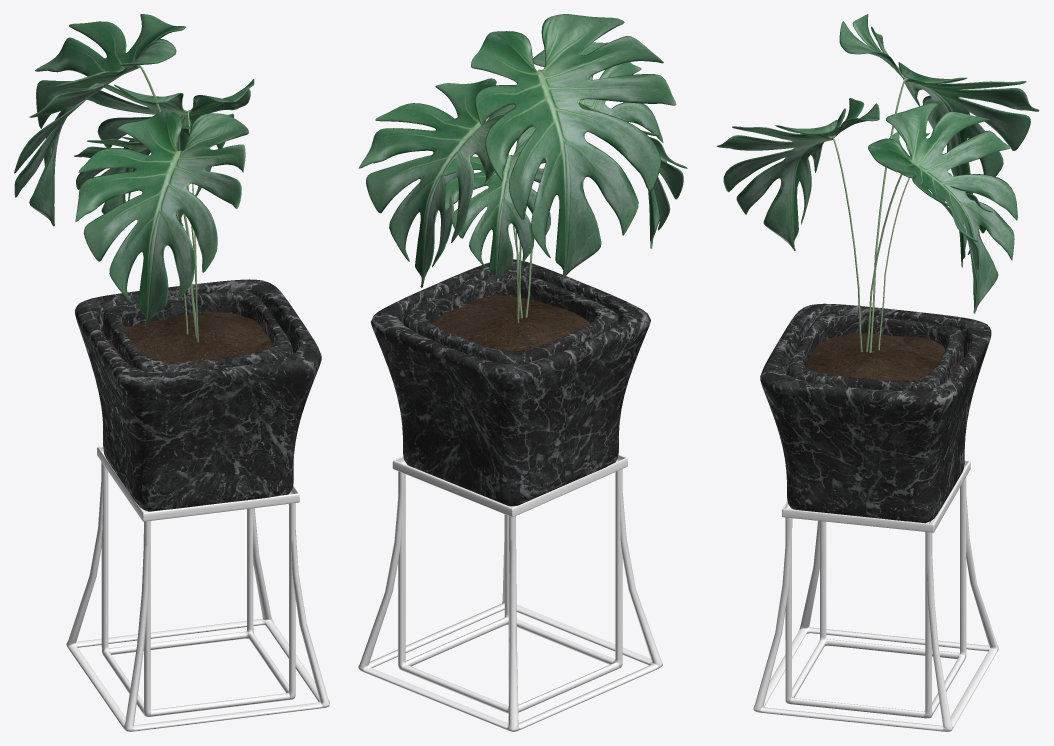
Rendered from monstera.glb.
The picture shows the model from 3 angles, left to right: view 1: azimuth 30°, elevation 25°; view 2: azimuth 150°, elevation 25°; view 3: azimuth 270°, elevation 25°; orthographic projection. The views are drawn at different scales.
Parts seen in each view (by area): view 1: Planta2.002, VASO_TORTO.002, VASO_RETO, Suporte_Torto.002, Supote_RETO, Terra_VASO_TORTO.002, Terra_VASO_reto, SUPORTE.002; view 2: Planta2.002, VASO_TORTO.002, Suporte_Torto.002, VASO_RETO, Supote_RETO, Terra_VASO_TORTO.002, Terra_VASO_reto, SUPORTE.002; view 3: Planta2.002, VASO_TORTO.002, Suporte_Torto.002, VASO_RETO, Supote_RETO, Terra_VASO_TORTO.002, Terra_VASO_reto, SUPORTE.002.
Boxes of the visible parts, bbox=[...] form: Planta2.002: bbox=[14, 14, 254, 342]; VASO_TORTO.002: bbox=[75, 279, 321, 511]; VASO_RETO: bbox=[103, 290, 293, 510]; Suporte_Torto.002: bbox=[66, 462, 329, 731]; Supote_RETO: bbox=[101, 457, 295, 716]; Terra_VASO_TORTO.002: bbox=[103, 312, 273, 361]; Terra_VASO_reto: bbox=[123, 312, 270, 348]; SUPORTE.002: bbox=[97, 446, 299, 521]; Planta2.002: bbox=[358, 14, 687, 323]; VASO_TORTO.002: bbox=[370, 259, 650, 506]; Suporte_Torto.002: bbox=[358, 469, 662, 731]; VASO_RETO: bbox=[403, 271, 618, 501]; Supote_RETO: bbox=[398, 471, 622, 713]; Terra_VASO_TORTO.002: bbox=[468, 295, 589, 351]; Terra_VASO_reto: bbox=[432, 304, 528, 350]; SUPORTE.002: bbox=[392, 454, 627, 517]; Planta2.002: bbox=[716, 14, 1039, 352]; VASO_TORTO.002: bbox=[760, 303, 991, 523]; Suporte_Torto.002: bbox=[753, 497, 998, 731]; VASO_RETO: bbox=[787, 314, 963, 512]; Supote_RETO: bbox=[785, 477, 966, 718]; Terra_VASO_TORTO.002: bbox=[805, 333, 963, 379]; Terra_VASO_reto: bbox=[838, 335, 945, 380]; SUPORTE.002: bbox=[782, 460, 970, 532].
Bounding box in the file's own units: 0.8852 × 1.98 × 0.9379.
4 materials, 3 textured.
